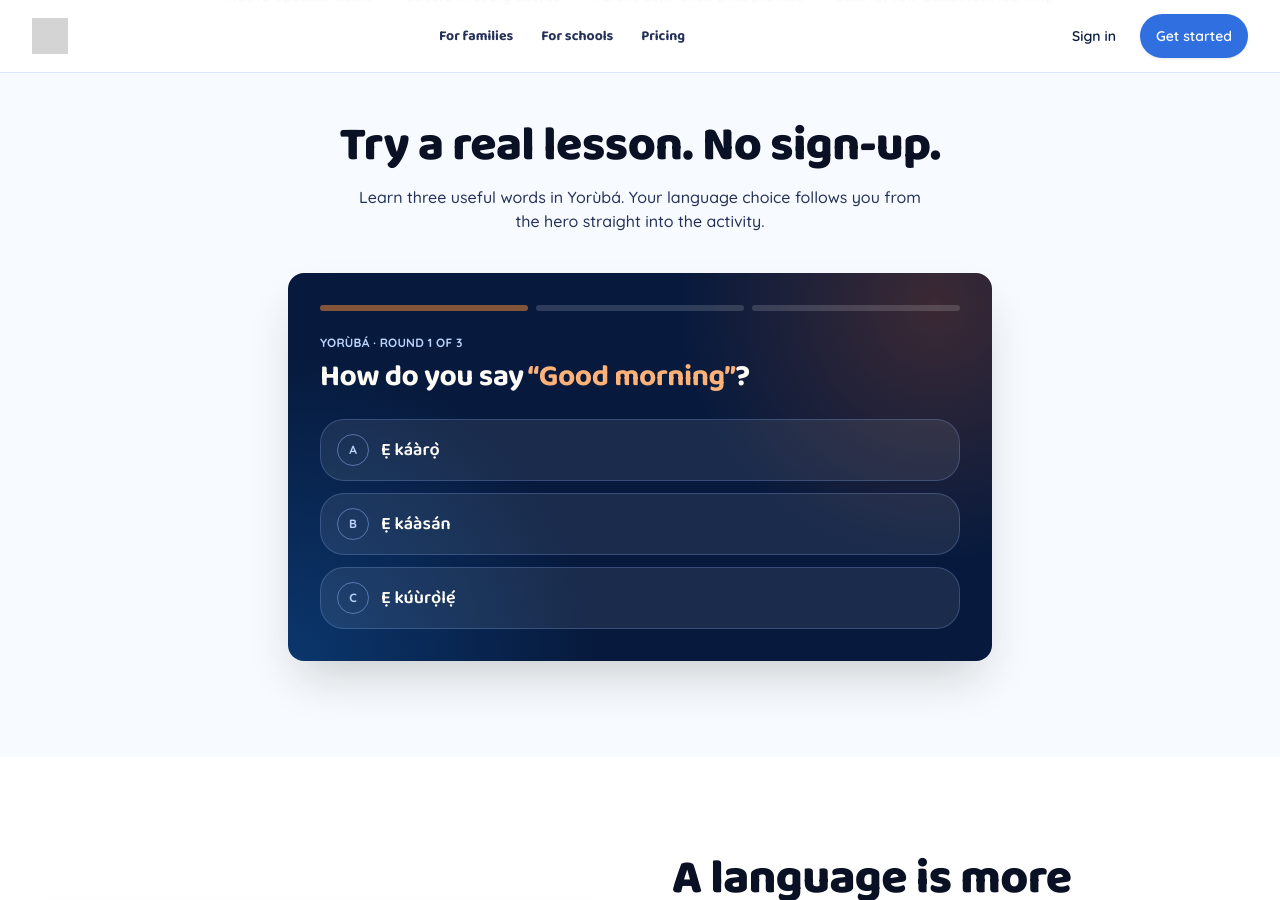
Test: LandingPage › completes the lesson and offers a signup
(page scrolled)
Step 1. Click the button "A Ẹ káàrọ̀" → x=353, y=450, box [320,419,960,481]
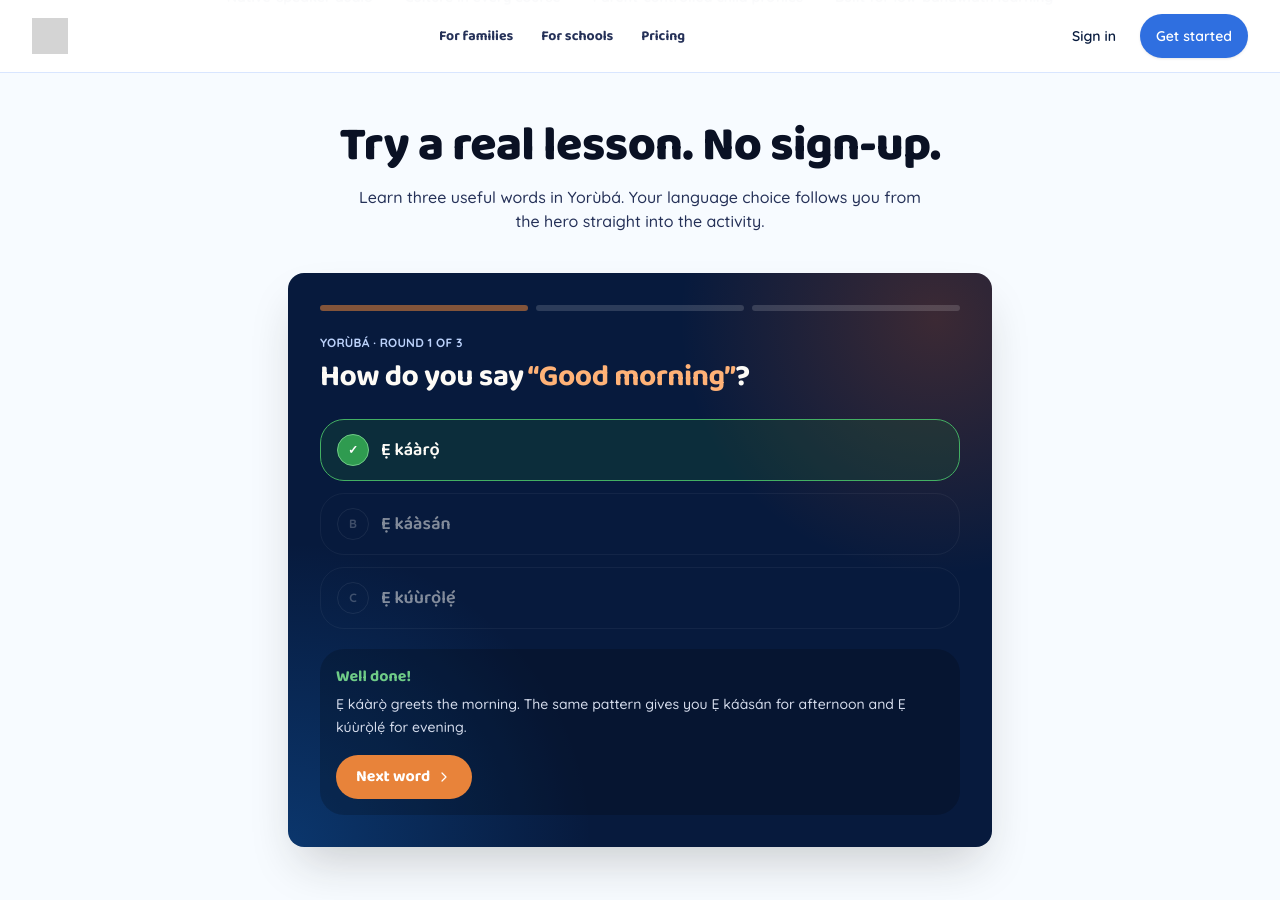
Step 2. Click the button "Next word" → x=404, y=776, box [336,754,472,798]
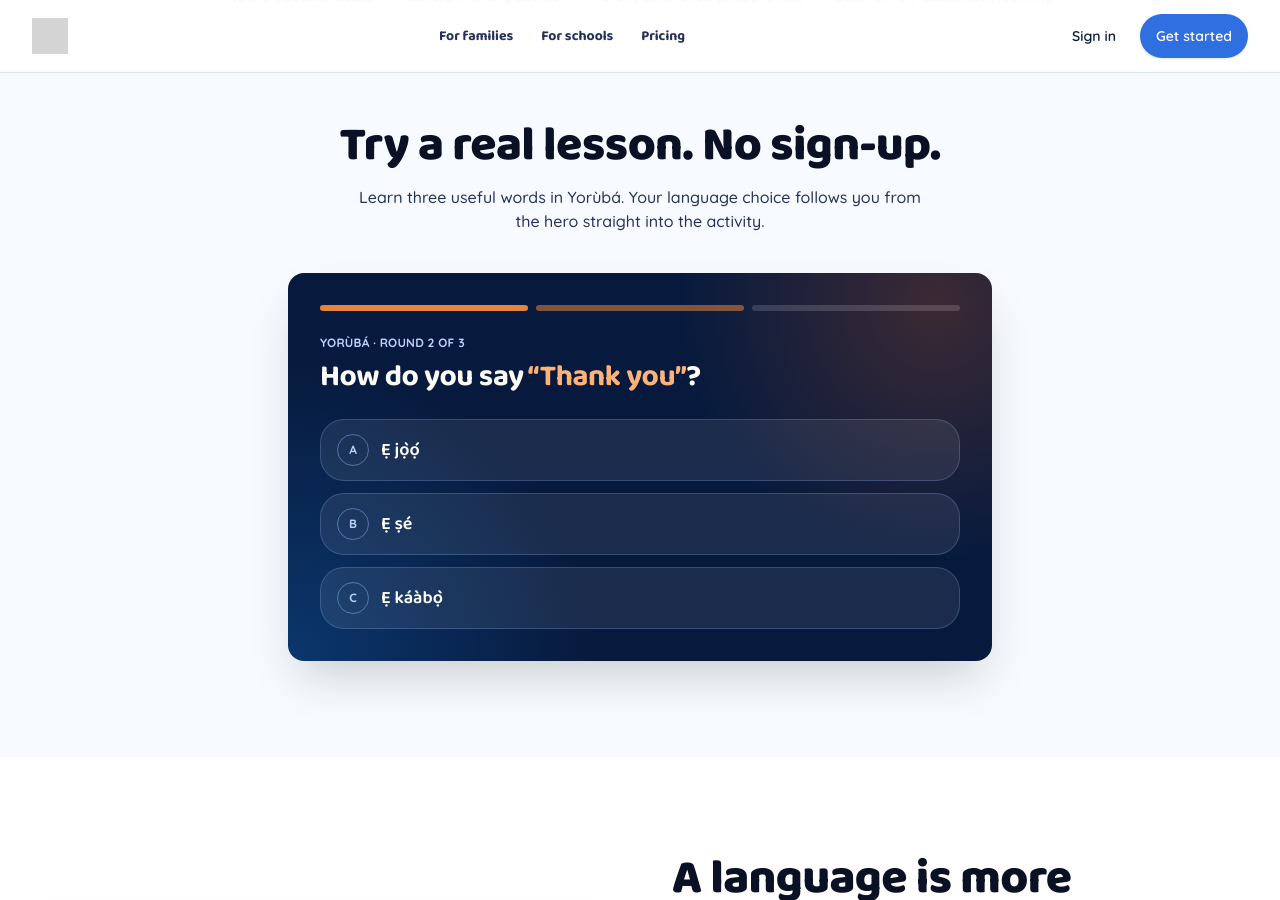
Step 3. Click the button "B Ẹ ṣé" → x=353, y=524, box [320,493,960,555]
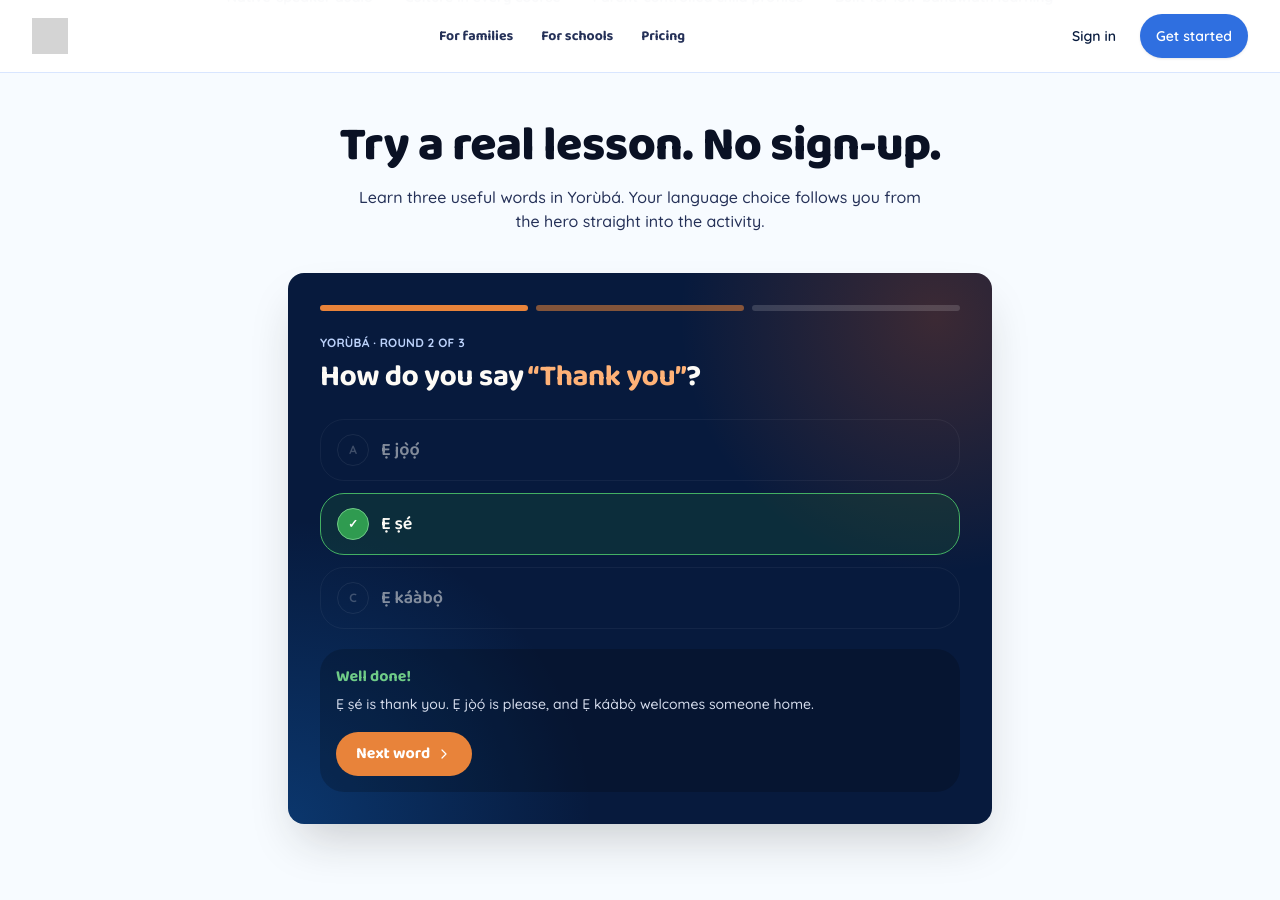
Step 4. Click the button "Next word" → x=404, y=754, box [336,732,472,776]
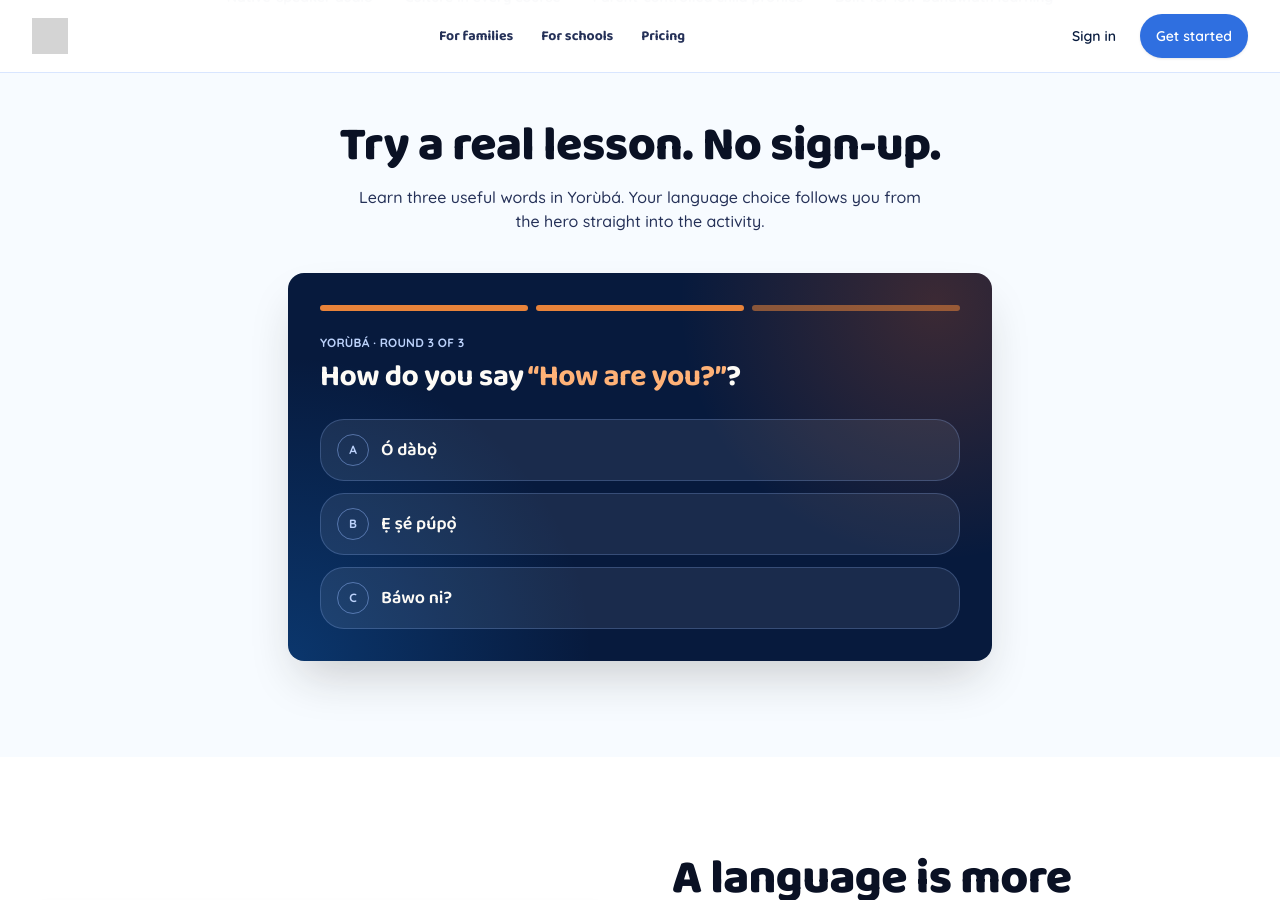
Step 5. Click the button "C Báwo ni?" → x=353, y=598, box [320,567,960,629]
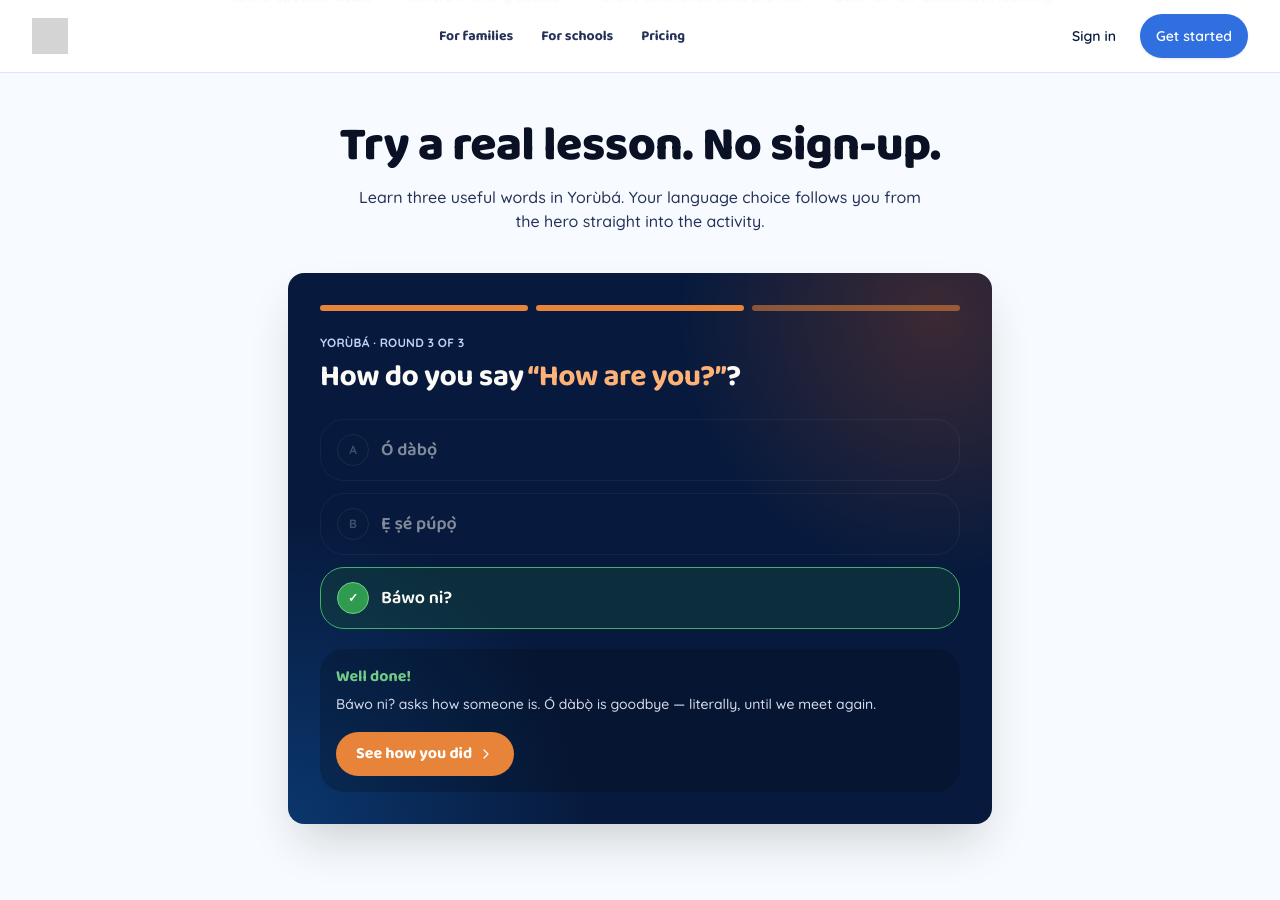
Step 6. Click the button "See how you did" → x=425, y=754, box [336,732,514,776]
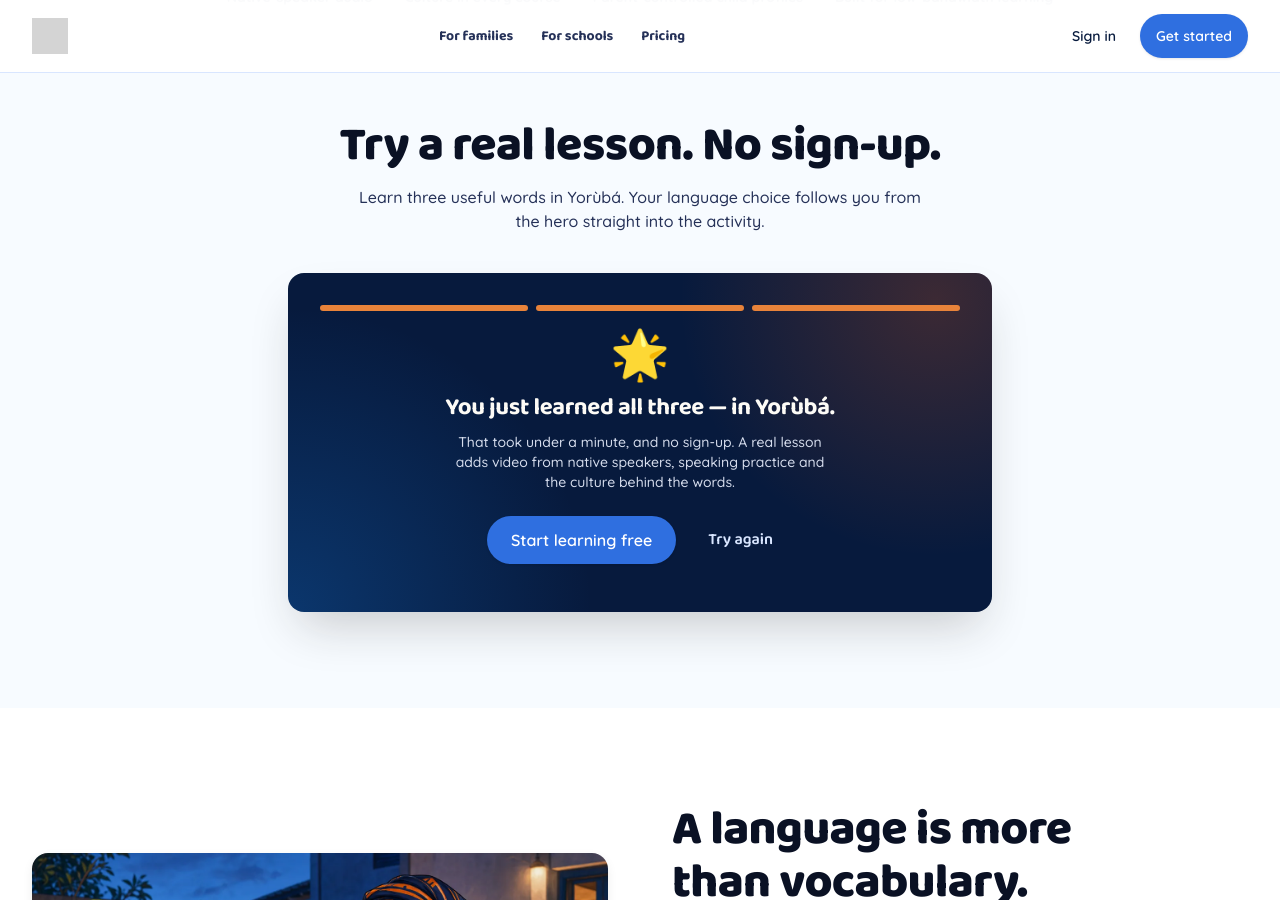
Now the heading "You just learned all three — in Yorùbá." is shown, box [446,388,834,427]
Now the link "Start learning free" is shown, box [487,516,676,564]
